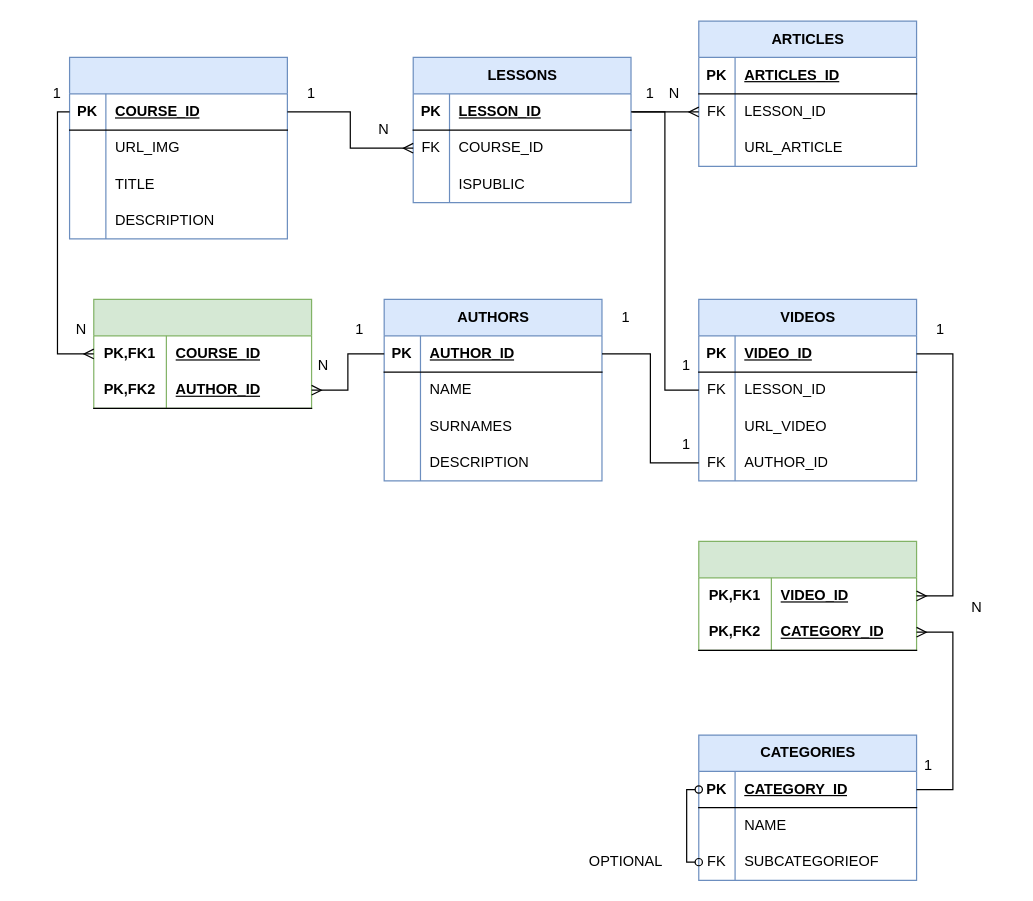
Image size: 1033x901. Some labels were removed from this diagram. Each missing label, with the box of its shape:
COURSES: (68, 56, 287, 239)
COURSES/AUTHORS: (93, 298, 312, 408)
VIDEOS/CATEGORIES: (698, 540, 917, 650)
